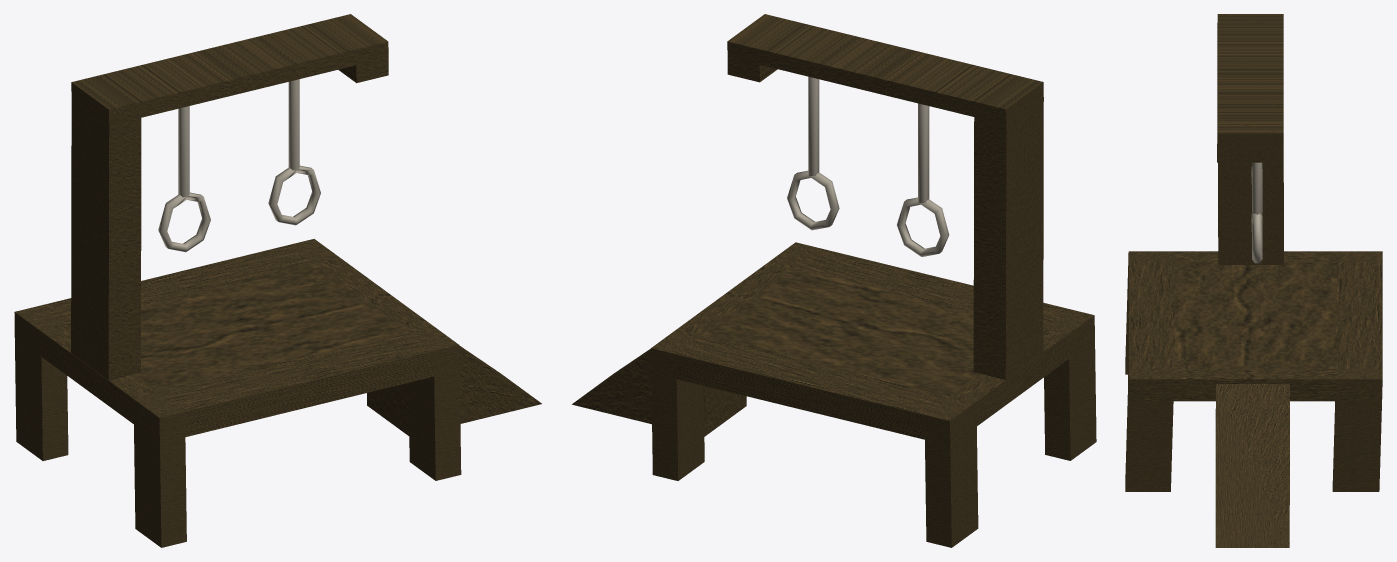
Rendered from gallows.fbx.
The picture shows the model from 3 angles, left to right: view 1: azimuth 30°, elevation 25°; view 2: azimuth 150°, elevation 25°; view 3: azimuth 270°, elevation 25°; orthographic projection. The views are drawn at different scales.
Parts seen in each view (by area): view 1: polySurface215; view 2: polySurface215; view 3: polySurface215.
Part boxes in pixels (x1,y1,x2,y2): polySurface215: (14,14,541,547); polySurface215: (572,14,1096,547); polySurface215: (1125,14,1382,547).
Size of the model in its own units: 20.72 by 18.29 by 12.19.
